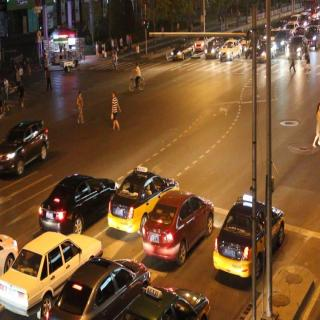Car: (0, 234, 107, 320), (50, 255, 158, 320), (32, 162, 114, 231), (216, 201, 280, 288), (102, 165, 176, 228), (150, 189, 212, 264), (0, 113, 52, 181), (123, 284, 214, 320), (247, 35, 288, 63), (168, 34, 199, 70), (220, 38, 244, 69), (289, 32, 310, 66), (203, 36, 225, 64), (271, 25, 290, 53), (281, 15, 303, 39), (304, 20, 320, 52), (192, 29, 208, 52)
